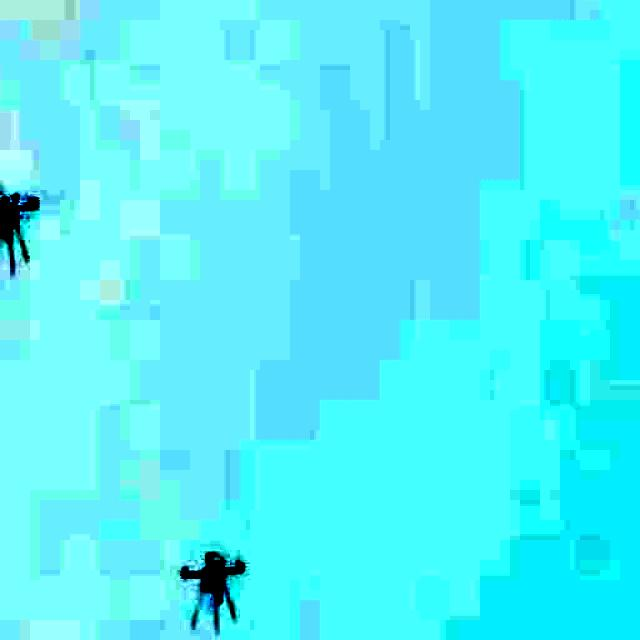bird: (174, 545, 245, 635), (0, 182, 46, 275)
